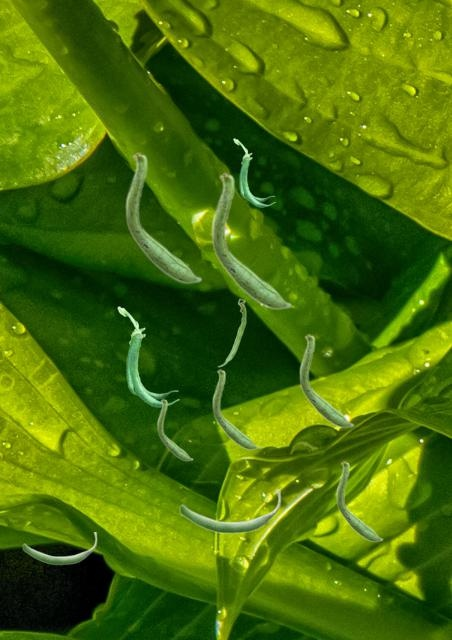french_bean: (211, 171, 291, 309), (125, 151, 201, 283), (117, 306, 178, 406), (299, 333, 353, 427), (179, 489, 280, 533), (336, 460, 382, 541), (212, 368, 258, 449), (233, 138, 274, 206), (22, 532, 96, 564), (157, 398, 192, 460), (217, 298, 245, 366)
